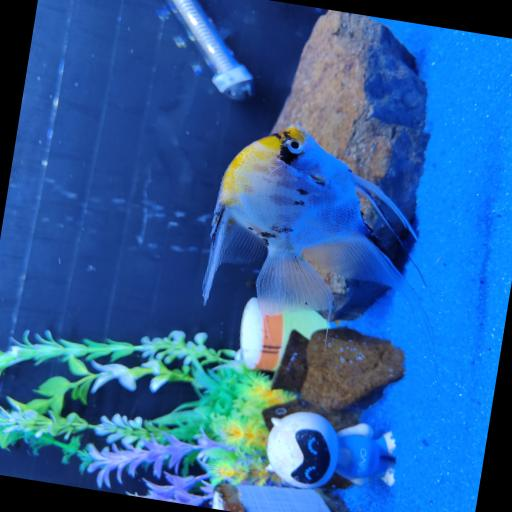Fish: (203, 124, 432, 338)
